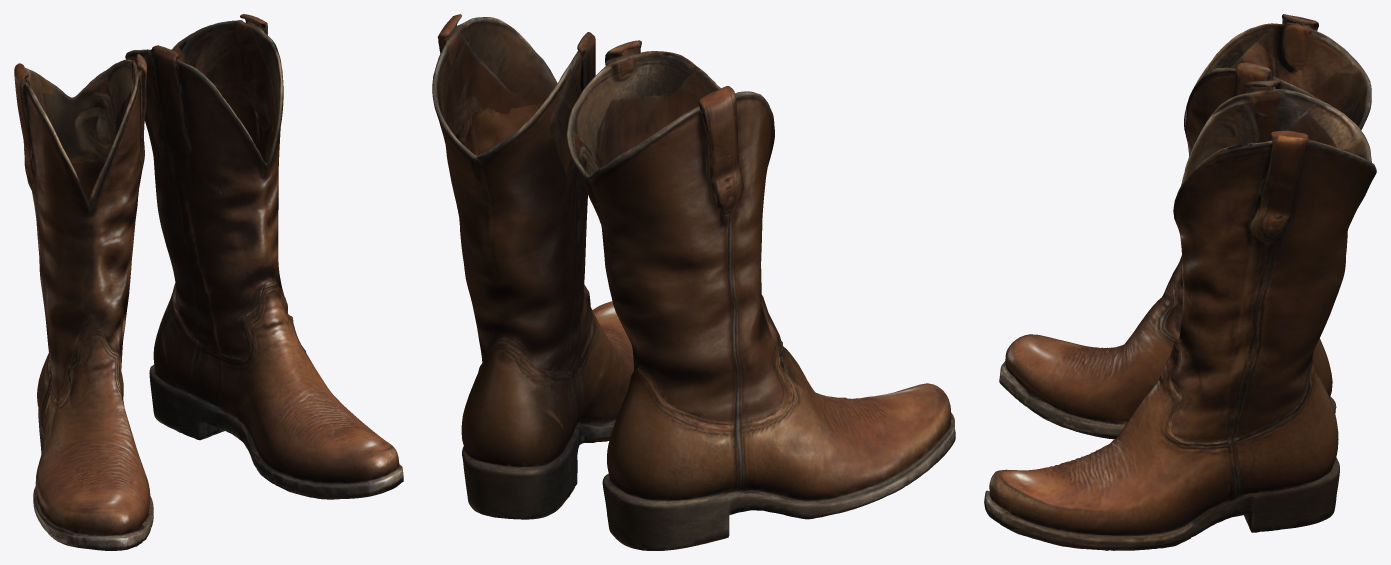
Rendered from boot.glb.
3 renders of one model, left to right at view 1: azimuth 30°, elevation 25°; view 2: azimuth 150°, elevation 25°; view 3: azimuth 270°, elevation 25°, orthographic. The views are drawn at different scales.
Visible parts, largest first — view 1: Mesh_0.002; view 2: Mesh_0.002; view 3: Mesh_0.002.
Boxes of the visible parts, x1=… form: Mesh_0.002: x1=14, y1=14, x2=403, y2=550; Mesh_0.002: x1=432, y1=14, x2=955, y2=550; Mesh_0.002: x1=984, y1=14, x2=1376, y2=550.
Size of the model in its own units: 0.2681 by 0.3 by 0.2627.
Materials: 1 (1 with a texture image).
